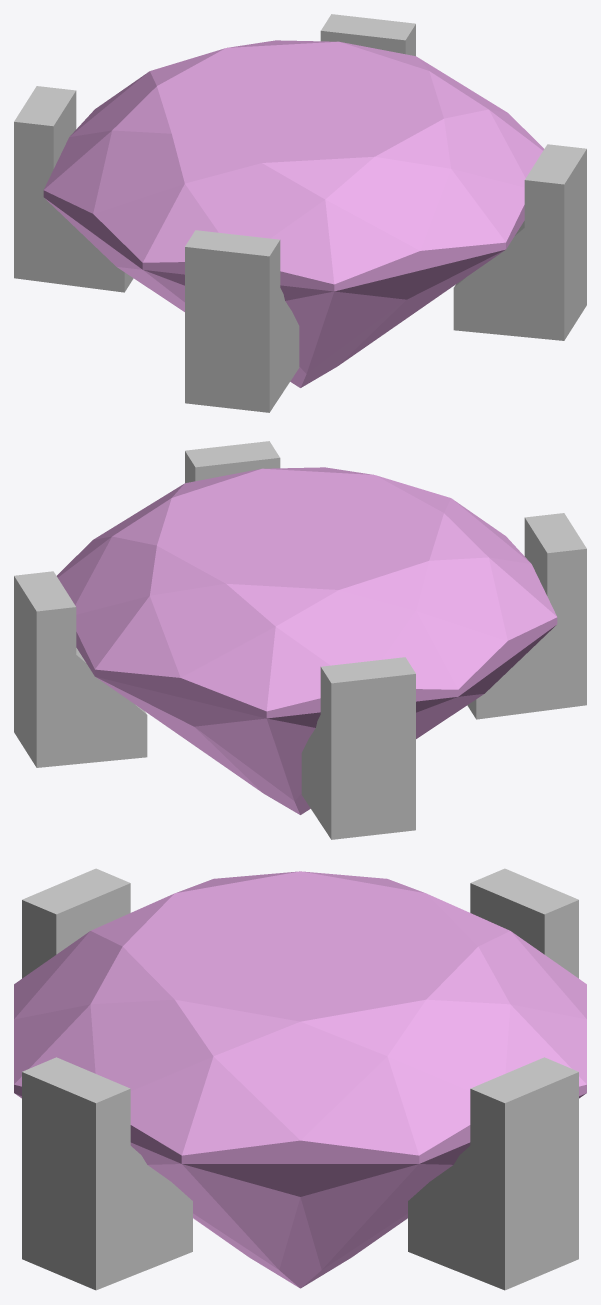
Rendered from quartz_prongs.fbx.
The picture shows the model from 3 angles, top to bottom: view 1: azimuth 30°, elevation 25°; view 2: azimuth 150°, elevation 25°; view 3: azimuth 270°, elevation 25°; orthographic projection. The views are drawn at different scales.
Visible parts, largest first — view 1: Octagon, Octagon Prongs; view 2: Octagon, Octagon Prongs; view 3: Octagon, Octagon Prongs.
Boxes of the visible parts, x1,y1,x2,y2 form: Octagon: [43, 40, 543, 387]; Octagon Prongs: [14, 14, 586, 412]; Octagon: [57, 467, 557, 814]; Octagon Prongs: [14, 441, 586, 839]; Octagon: [14, 871, 586, 1288]; Octagon Prongs: [22, 868, 578, 1290].
Size of the model in its own units: 300 by 198 by 300.
